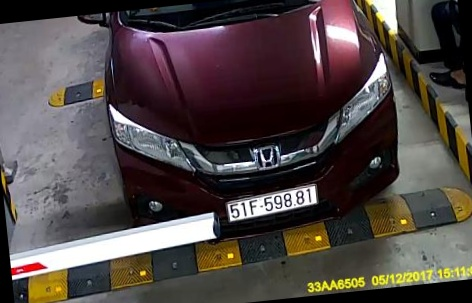plate: (222, 184, 317, 223)
